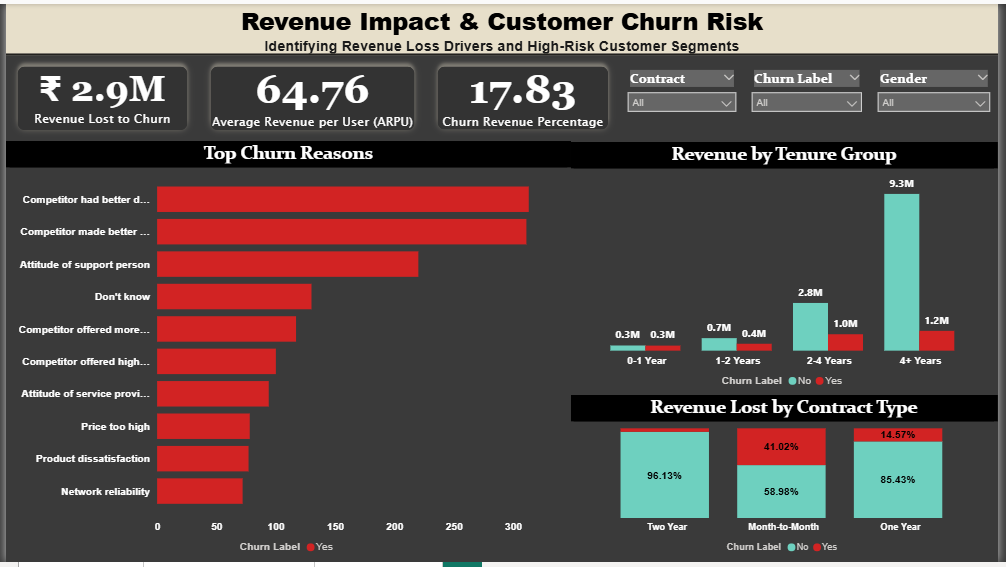

The dashboard page shown, as its layout file describes it:
{"tool":"powerbi","page":{"name":"Revenue impact","canvas":[1280,720],"ordinal":2},"visuals":[{"type":"clusteredColumnChart","title":"Revenue by Tenure Group","fields":{"Category":["Telco.Tenure Group"],"Y":["Sum(Telco.Total Charges)"],"Series":["Telco.Churn Label"]},"box":[728.1,177.5,551.9,327.6],"z":0},{"type":"hundredPercentStackedColumnChart","title":"Revenue Lost by Contract Type","fields":{"Y":["Sum(Telco.Total Charges)"],"Series":["Telco.Churn Label"],"Category":["Telco.Contract"]},"box":[728.1,505.1,551.9,214.7],"z":1000},{"type":"cardVisual","fields":{"Data":["Telco.Churn Revenue"]},"box":[0,66.1,249.1,112.9],"z":2000},{"type":"cardVisual","fields":{"Data":["Telco.Avg_Revenue_Per_User"]},"box":[249.1,66.1,293.2,112.9],"z":3000},{"type":"actionButton","box":[0,0,100,40],"z":5000},{"type":"slicer","fields":{"Values":["Telco.Contract"]},"box":[792.3,79.4,160.2,97.8],"z":6000},{"type":"slicer","fields":{"Values":["Telco.Churn Label"]},"box":[952.4,79.8,162.4,97.7],"z":7000},{"type":"slicer","fields":{"Values":["Telco.Gender"]},"box":[1114.8,79.8,165.2,97.7],"z":8000},{"type":"clusteredBarChart","title":"Top Churn Reasons","fields":{"Category":["Telco.Churn Reason"],"Y":["Count(Telco.Customer ID)"],"Series":["Telco.Churn Label"]},"box":[0,177.2,728.5,542.8],"z":9000},{"type":"cardVisual","fields":{"Data":["Telco.Churn Revenue %"]},"box":[542.3,66.1,250.5,111.5],"z":10000},{"type":"shape","title":"Revenue Impact & Customer Churn Risk","box":[0,0,1280,66.1],"z":11000}]}

Visuals, with their boxes in screenshot pixels (x1, y1, x2, y2), scaled from the page's 1280x720 canvas onto the 1006x567 screenshot:
"Revenue by Tenure Group" clusteredColumnChart: [572, 140, 1005, 398]
"Revenue Lost by Contract Type" hundredPercentStackedColumnChart: [572, 398, 1005, 566]
cardVisual - Telco.Churn Revenue: [0, 52, 196, 141]
cardVisual - Telco.Avg_Revenue_Per_User: [196, 52, 426, 141]
actionButton: [0, 0, 79, 32]
slicer - Telco.Contract: [623, 63, 749, 140]
slicer - Telco.Churn Label: [749, 63, 876, 140]
slicer - Telco.Gender: [876, 63, 1005, 140]
"Top Churn Reasons" clusteredBarChart: [0, 140, 573, 566]
cardVisual - Telco.Churn Revenue %: [426, 52, 623, 140]
"Revenue Impact & Customer Churn Risk" shape: [0, 0, 1005, 52]
